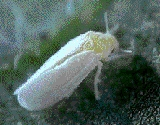whitefly: (13, 14, 131, 111)
